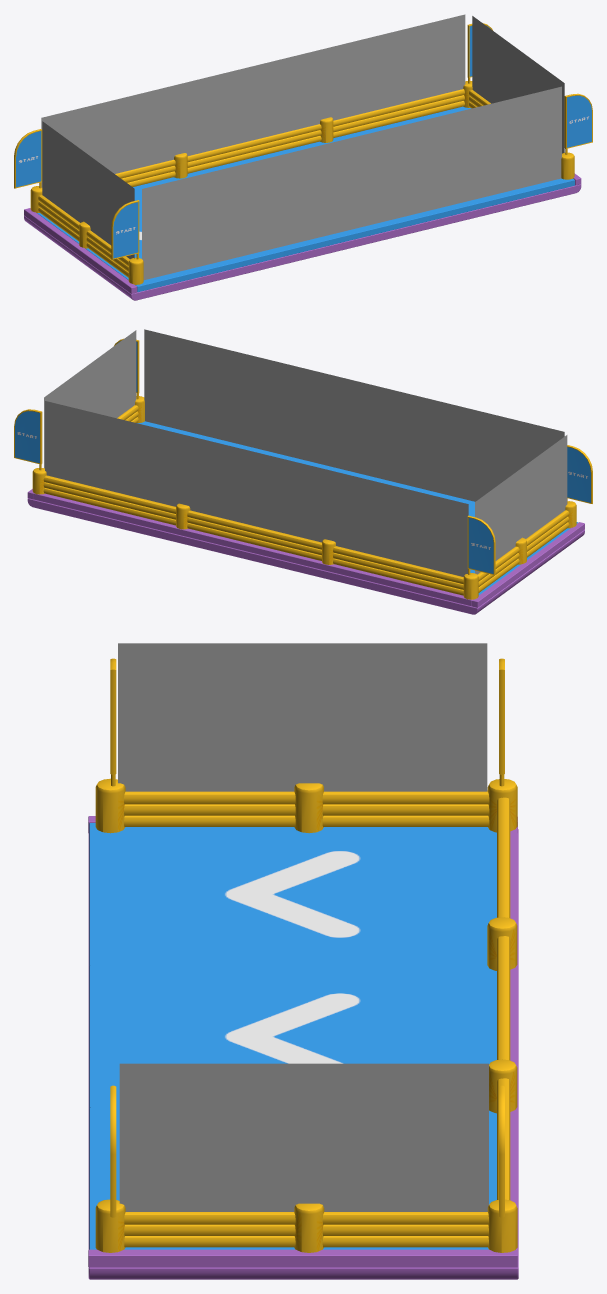
The model's file is SFP0110002.fbx.
3 views of the same model, one above another, from view 1: azimuth 30°, elevation 25°; view 2: azimuth 150°, elevation 25°; view 3: azimuth 270°, elevation 25° (orthographic). The views are drawn at different scales.
Visible parts, largest first — view 1: smSFP0110002, Trigger_Wall; view 2: smSFP0110002, Trigger_Wall; view 3: smSFP0110002.
Boxes of the visible parts, x1=… form: smSFP0110002: x1=14, y1=14, x2=592, y2=300; Trigger_Wall: x1=142, y1=86, x2=561, y2=280; smSFP0110002: x1=14, y1=330, x2=592, y2=614; Trigger_Wall: x1=144, y1=329, x2=564, y2=501; smSFP0110002: x1=88, y1=643, x2=518, y2=1279.
Size of the model in its own units: 1754 by 367 by 679.
2 materials, 1 textured.
